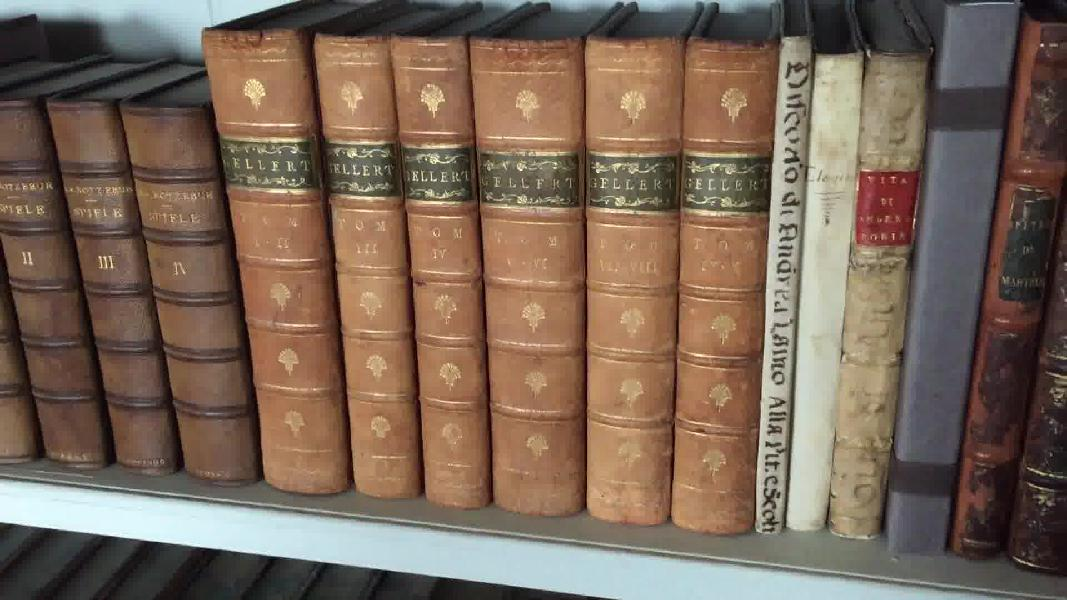Aa6-18_23: (192, 13, 774, 547)
Aa6-24: (752, 19, 808, 539)
Aa6-25: (781, 27, 862, 536)
Aa6-26: (828, 16, 928, 548)
Aa6-27: (876, 1, 1025, 559)
Aa6-28: (956, 12, 1067, 562)
